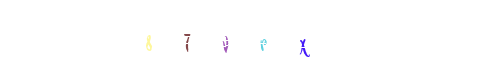7: (147, 0, 227, 80)
8: (110, 0, 190, 80)
R: (212, 0, 292, 80)
V: (202, 0, 282, 80)
X: (263, 0, 343, 80)
